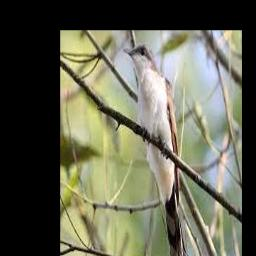Cuckoo: (123, 44, 189, 256)
